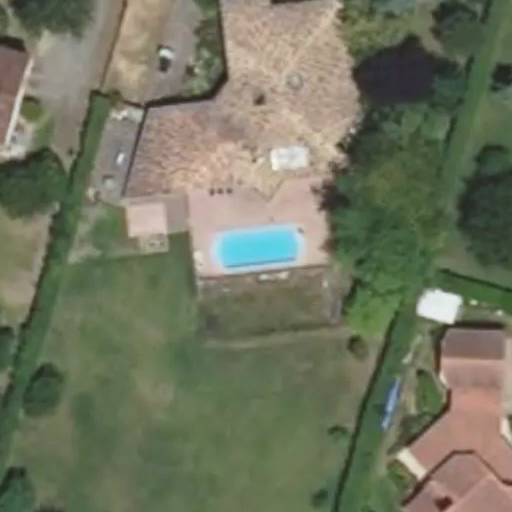pool: (203, 230, 308, 254)
